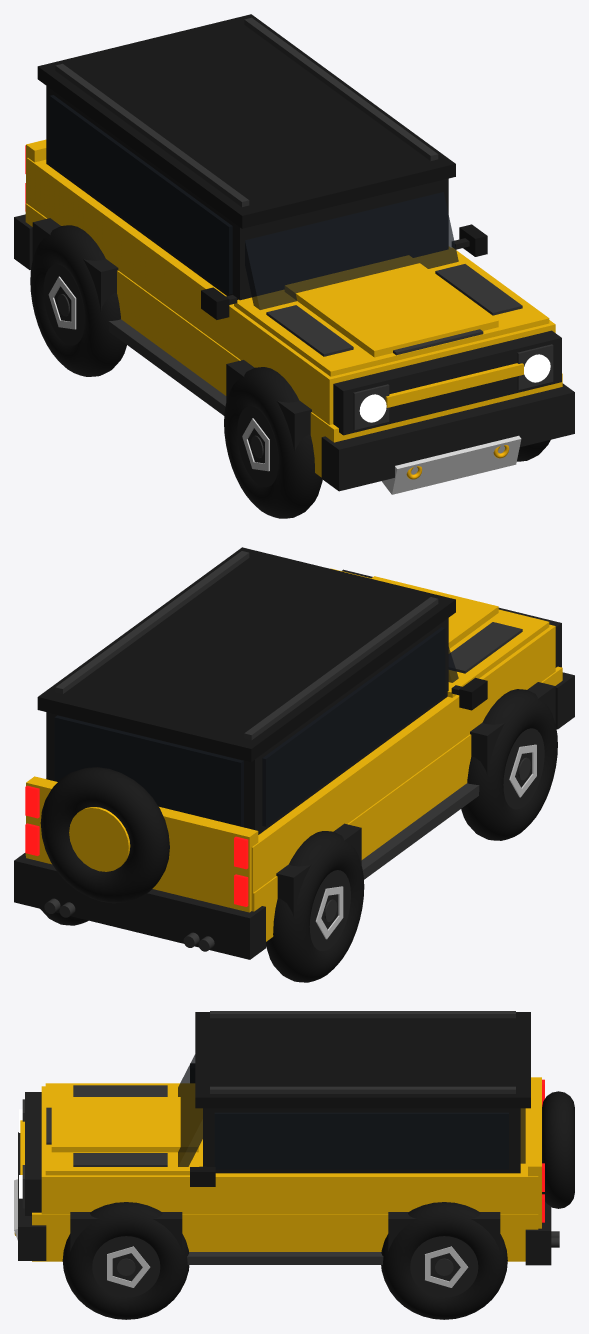
The model's file is defender.glb.
The picture shows the model from 3 angles, top to bottom: view 1: azimuth 30°, elevation 25°; view 2: azimuth 150°, elevation 25°; view 3: azimuth 270°, elevation 25°; orthographic projection. The views are drawn at different scales.
Visible parts, largest first — view 1: Greenhouse, BodyStructure, FrontFascia, RoadWheels, WidebodyArches, LandRoverDefender, RearFascia; view 2: Greenhouse, BodyStructure, RoadWheels, RearFascia, TailgateSpareWheel, WidebodyArches, FrontFascia, LandRoverDefender; view 3: Greenhouse, BodyStructure, RoadWheels, WidebodyArches, FrontFascia, TailgateSpareWheel, RearFascia, LandRoverDefender.
Boxes of the visible parts, x1,y1,x2,y2 form: Greenhouse: (37, 14, 458, 309); BodyStructure: (25, 158, 562, 477); FrontFascia: (321, 330, 574, 494); RoadWheels: (30, 225, 550, 518); WidebodyArches: (32, 218, 311, 453); LandRoverDefender: (201, 224, 487, 319); RearFascia: (14, 139, 46, 270); Greenhouse: (37, 547, 458, 834); BodyStructure: (25, 568, 562, 941); RoadWheels: (40, 689, 557, 982); RearFascia: (14, 776, 265, 959); TailgateSpareWheel: (40, 767, 169, 903); WidebodyArches: (276, 682, 555, 916); FrontFascia: (342, 569, 574, 729); LandRoverDefender: (451, 677, 487, 710); Greenhouse: (178, 1011, 530, 1173); BodyStructure: (32, 1083, 538, 1261); RoadWheels: (62, 1202, 507, 1319); WidebodyArches: (70, 1212, 500, 1264); FrontFascia: (14, 1092, 46, 1260); TailgateSpareWheel: (542, 1091, 574, 1208); RearFascia: (525, 1077, 559, 1265); LandRoverDefender: (190, 1063, 215, 1186).
Bounding box in the file's own units: 2.2 × 2.07 × 4.76.
